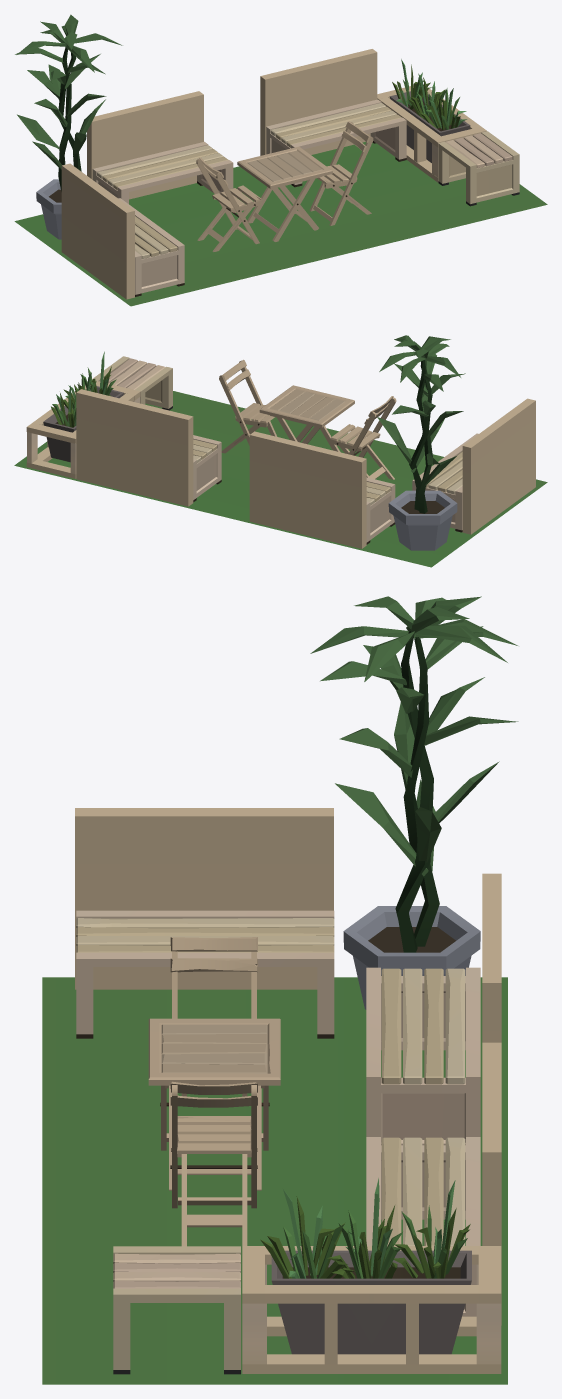
Rendered from parklet.glb.
The picture shows the model from 3 angles, top to bottom: view 1: azimuth 30°, elevation 25°; view 2: azimuth 150°, elevation 25°; view 3: azimuth 270°, elevation 25°; orthographic projection. The views are drawn at different scales.
Parts seen in each view (by area): view 1: parklet; view 2: parklet; view 3: parklet.
Boxes of the visible parts, <box> form: parklet: <box>14,14,547,306</box>; parklet: <box>14,335,547,567</box>; parklet: <box>42,596,518,1384</box>.
Bounding box in the file's own units: 5.35 × 2.4 × 2.56.
1 material, 1 textured.
